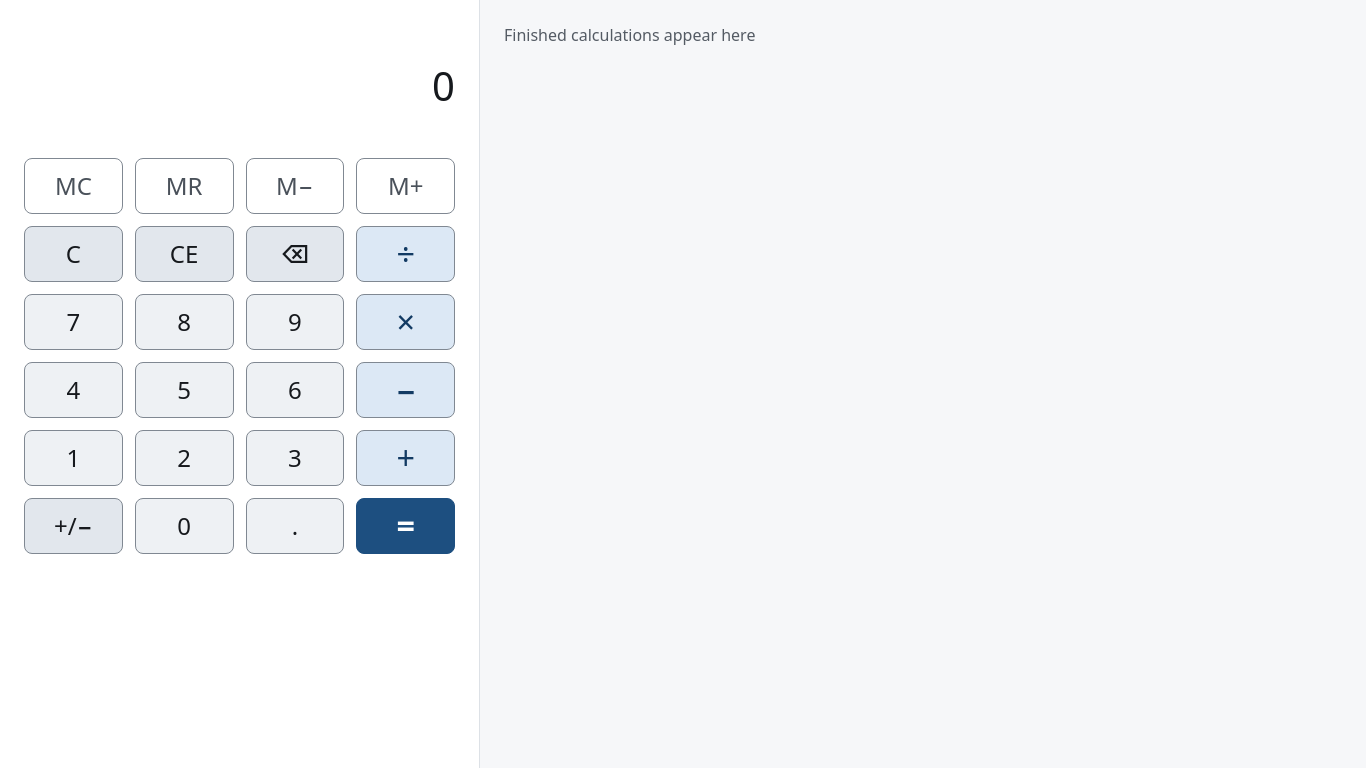
S-9 the fault: a throw the engine is not supposed to make › AC-9.9: shows the fault sentence from Decision 8, with an empty expression line
Type keys "85"
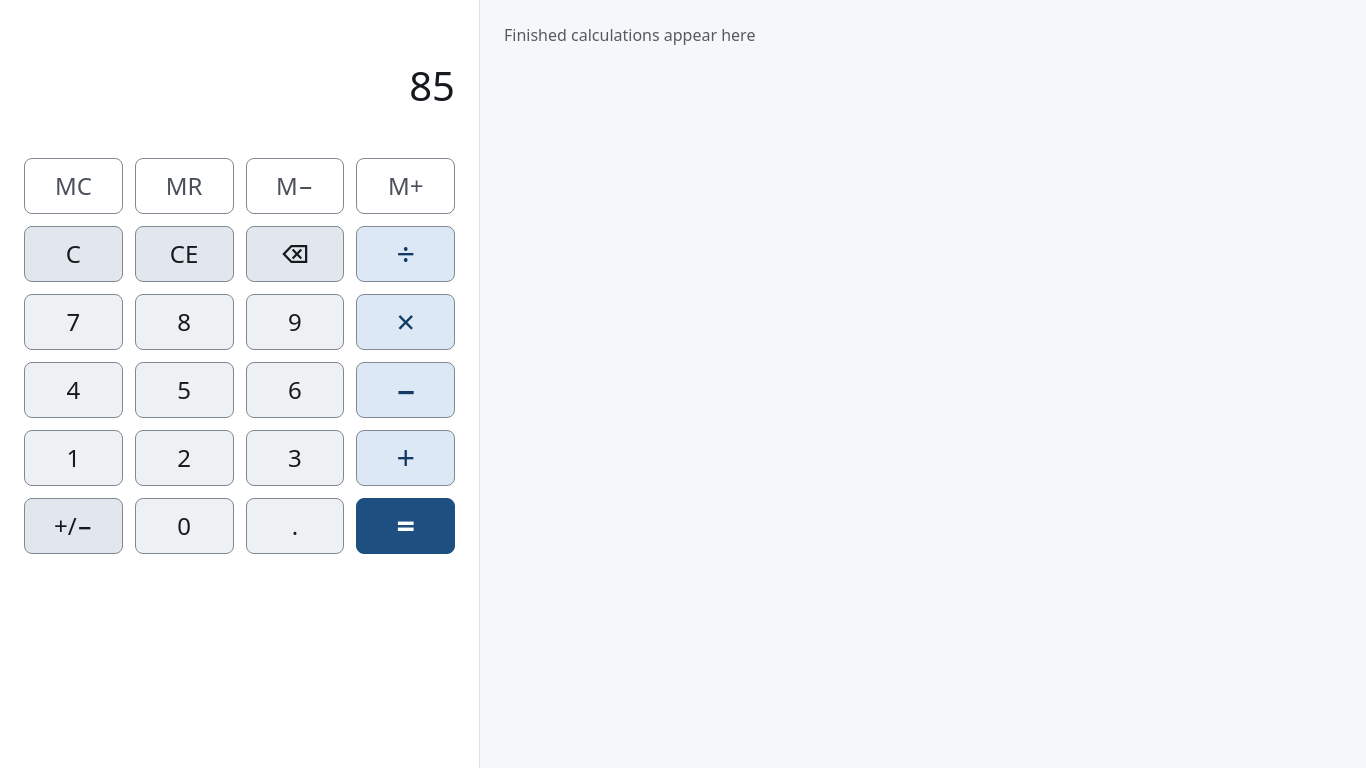
Click the button named "memory plus" at (406, 186), box [356,158,455,214]
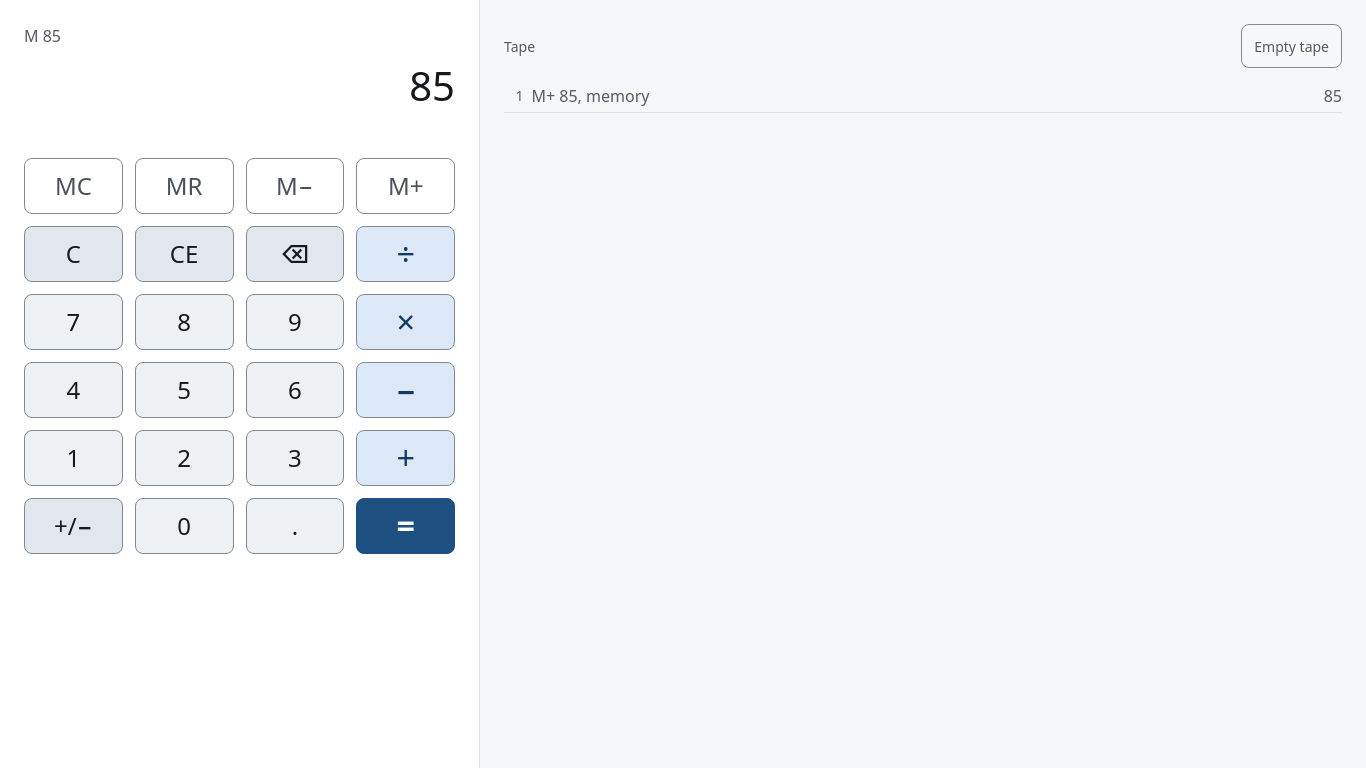
Type keys "{Escape}1+1=9"
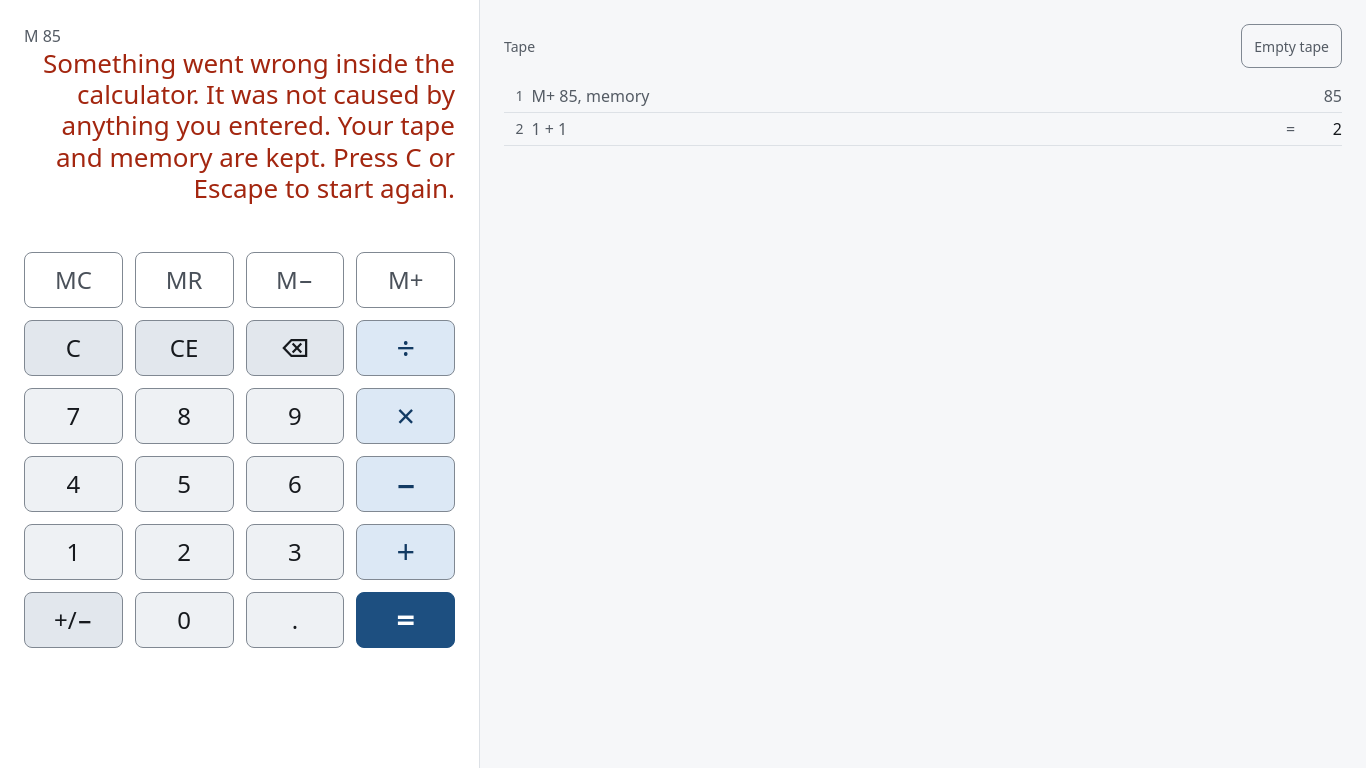
Expected: the message shows "Something went wrong inside the calculator. It was not caused by anything you entered. Your tape and memory are kept. Press C or Escape to start again.", [43,45,455,206]
Expected: the number of list items is 2, [504,80,1342,113]; [504,113,1342,146]
